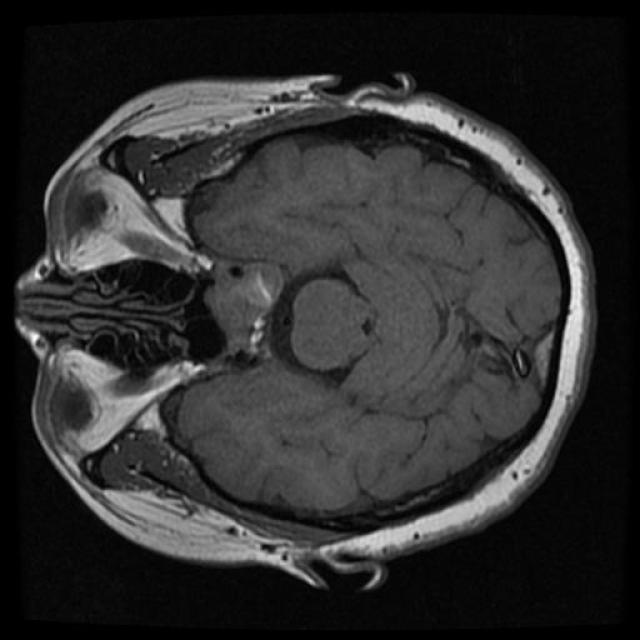Pituitary: (203, 261, 285, 365)
